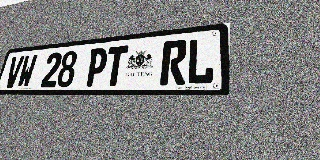2: (40, 52, 63, 87)
8: (56, 50, 79, 87)
L: (186, 37, 215, 85)
P: (84, 47, 109, 87)
R: (160, 39, 188, 85)
T: (103, 45, 129, 86)
V: (4, 56, 25, 88)
W: (16, 54, 38, 88)
